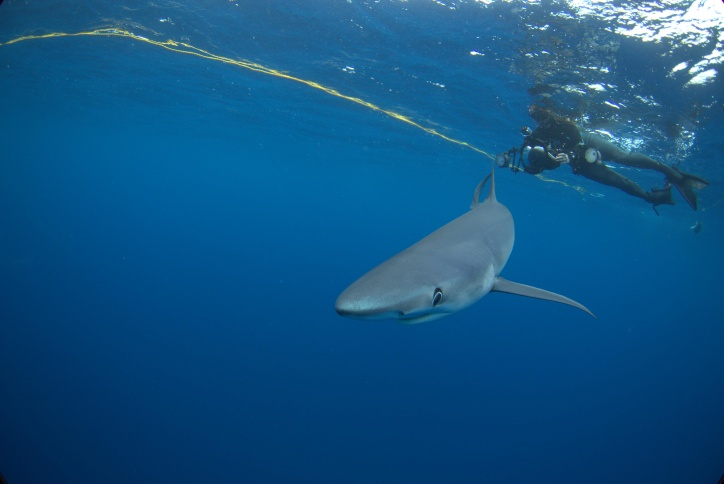Azul: (315, 154, 619, 344)
